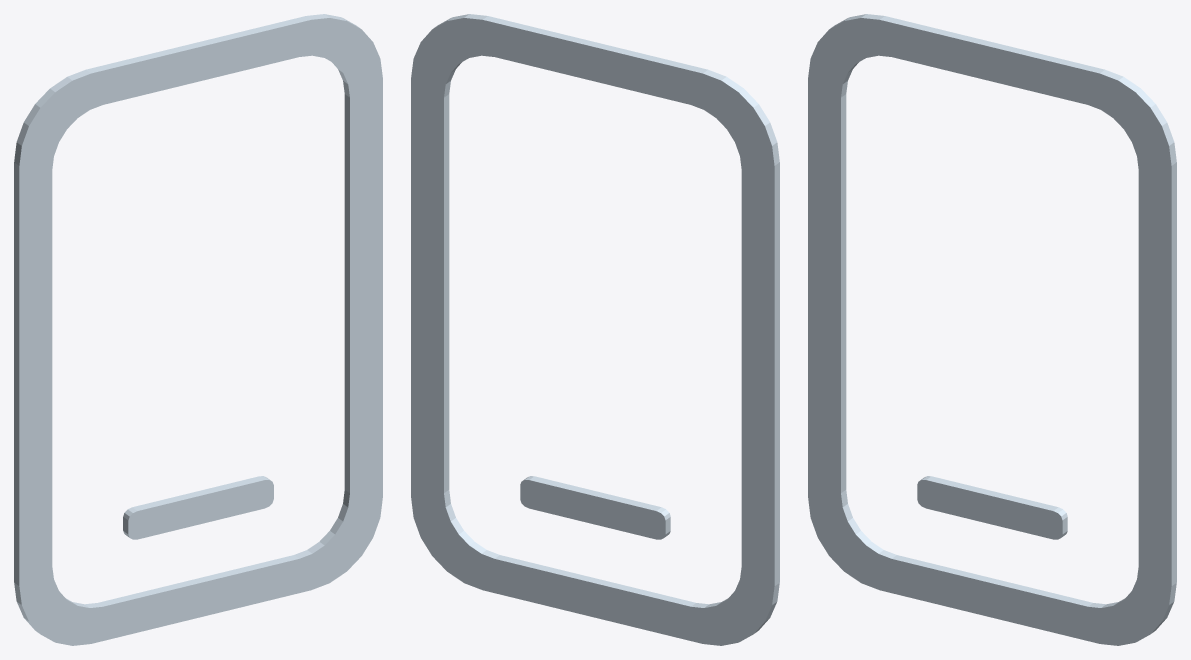
The model's file is Phone_3D_Icon_02.fbx.
3 views of the same model, side by side, from view 1: azimuth 30°, elevation 25°; view 2: azimuth 150°, elevation 25°; view 3: azimuth 330°, elevation 25° (orthographic).
Parts seen in each view (by area): view 1: Phone_3D_Icon_02; view 2: Phone_3D_Icon_02; view 3: Phone_3D_Icon_02.
Part boxes in pixels (x1,y1,x2,y2): Phone_3D_Icon_02: [14, 14, 382, 645]; Phone_3D_Icon_02: [411, 14, 779, 645]; Phone_3D_Icon_02: [808, 14, 1176, 645].
Bounding box in the file's own units: 79.2 × 119 × 2.
